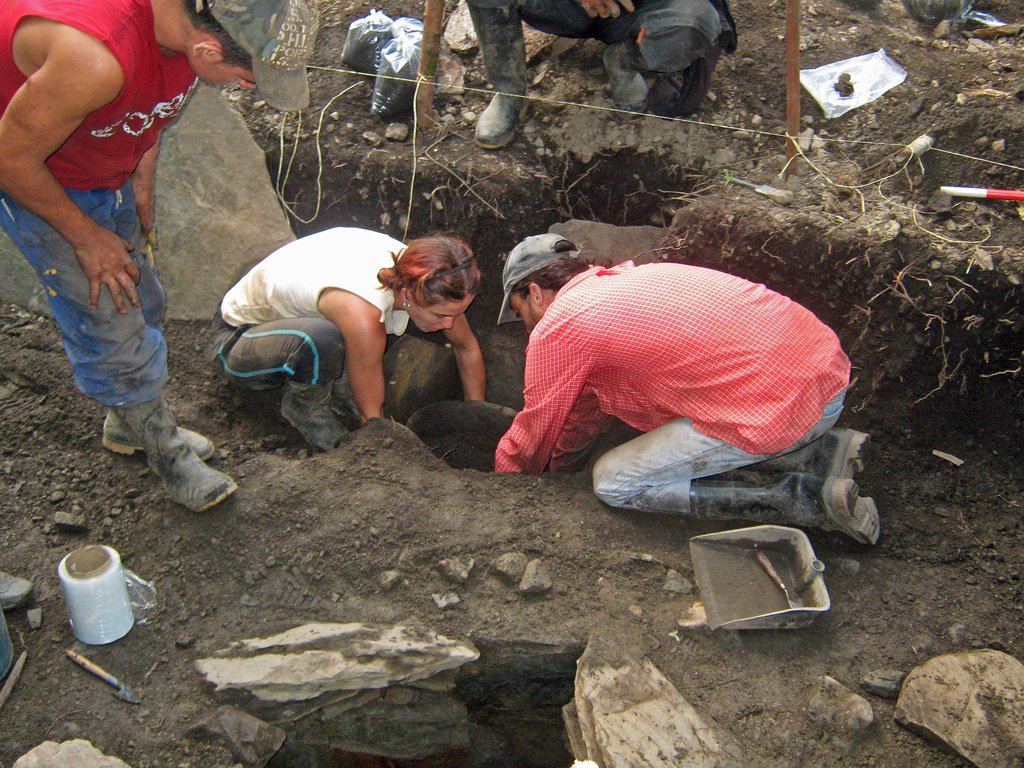Person: (0, 0, 880, 545)
